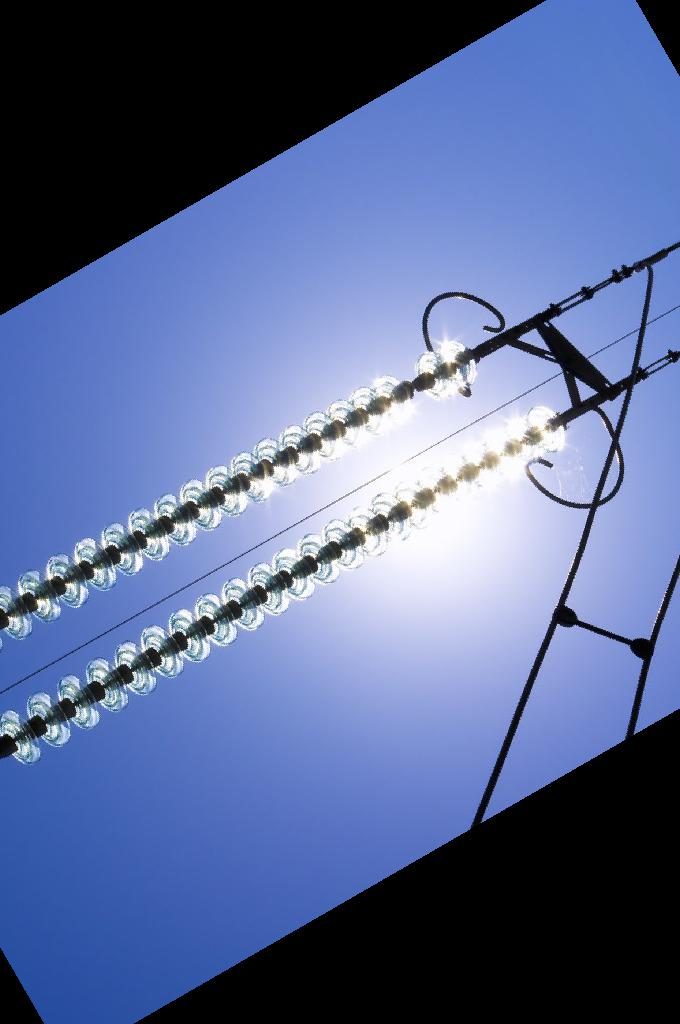insulator: (1, 400, 574, 771), (1, 334, 483, 651)
insulator_stringdrop: (373, 345, 454, 426)
